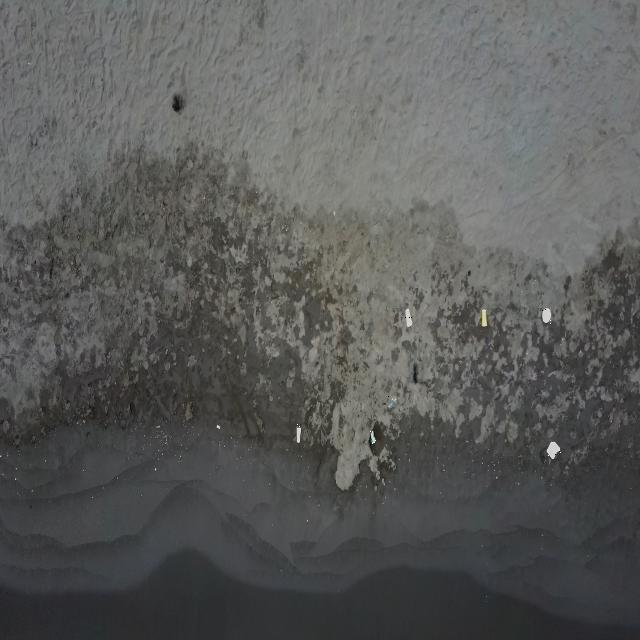take-away-containers: (546, 440, 561, 461), (541, 307, 551, 324)
takeaway-cup: (404, 307, 414, 328), (387, 395, 398, 410), (481, 308, 488, 328), (296, 424, 302, 444), (370, 430, 376, 444)
